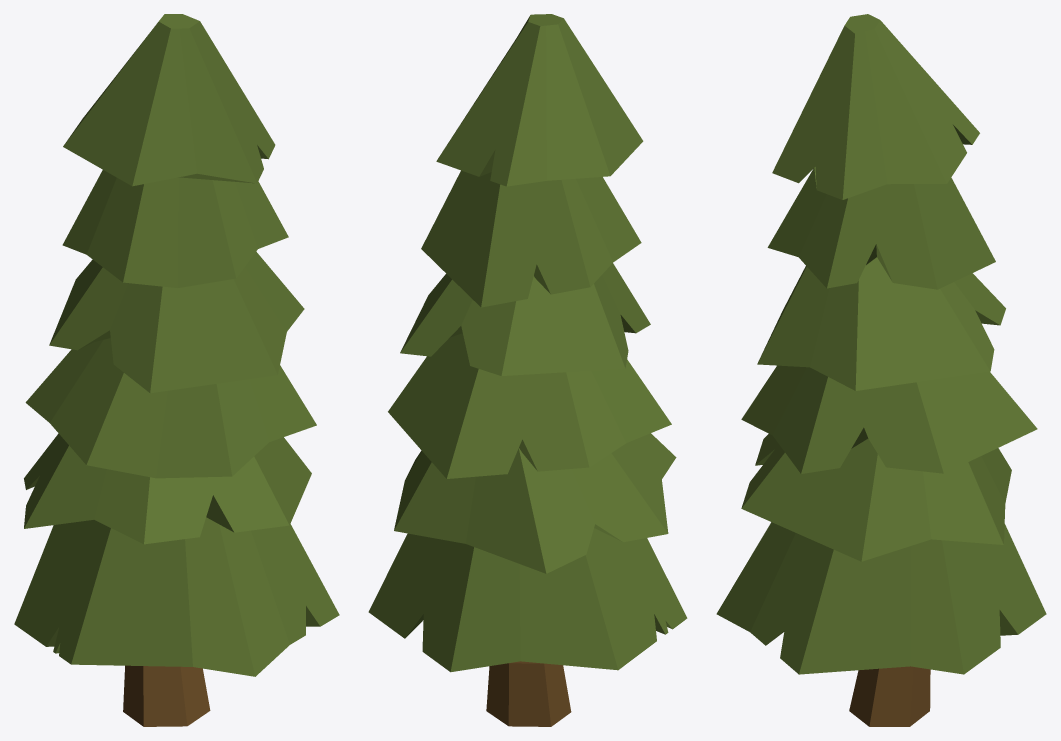
The model's file is PineTree4.fbx.
3 views of the same model, side by side, from view 1: azimuth 30°, elevation 25°; view 2: azimuth 150°, elevation 25°; view 3: azimuth 270°, elevation 25° (orthographic). The views are drawn at different scales.
Parts seen in each view (by area): view 1: Cylinder.001, Cylinder.003, Cylinder.005, Cylinder.004, Cylinder.006, Cylinder.002, Cylinder; view 2: Cylinder.001, Cylinder.003, Cylinder.002, Cylinder.005, Cylinder.006, Cylinder.004, Cylinder; view 3: Cylinder.001, Cylinder.005, Cylinder.004, Cylinder.003, Cylinder.002, Cylinder.006, Cylinder.
Part boxes in pixels (left/top/right/bottom): Cylinder.001: left=14, top=517, right=339, bottom=676; Cylinder.003: left=25, top=338, right=316, bottom=478; Cylinder.005: left=63, top=14, right=275, bottom=186; Cylinder.004: left=49, top=251, right=304, bottom=393; Cylinder.006: left=62, top=170, right=288, bottom=287; Cylinder.002: left=24, top=433, right=311, bottom=544; Cylinder: left=123, top=665, right=210, bottom=726; Cylinder.001: left=368, top=528, right=687, bottom=672; Cylinder.003: left=388, top=333, right=671, bottom=478; Cylinder.002: left=394, top=433, right=676, bottom=573; Cylinder.005: left=436, top=14, right=643, bottom=186; Cylinder.006: left=421, top=170, right=641, bottom=307; Cylinder.004: left=400, top=263, right=650, bottom=375; Cylinder: left=486, top=661, right=571, bottom=726; Cylinder.001: left=716, top=522, right=1046, bottom=674; Cylinder.005: left=772, top=14, right=979, bottom=199; Cylinder.004: left=757, top=257, right=1005, bottom=390; Cylinder.003: left=741, top=365, right=1037, bottom=473; Cylinder.002: left=741, top=434, right=1011, bottom=561; Cylinder.006: left=767, top=168, right=995, bottom=289; Cylinder: left=849, top=666, right=930, bottom=726.
Size of the model in its own units: 360 by 883 by 384.
